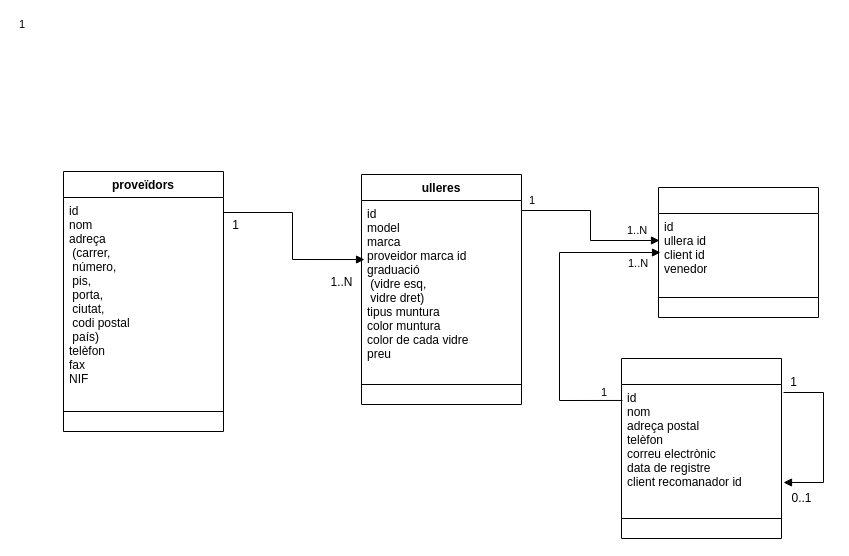
Image size: 849x556. Some labels were removed from this diagram. The shapes that lost their labels are listed below. From the top down, each one's box as (x1, y1, x2, y2) in pixels, then its label:
(658, 186, 818, 318): vendes
(620, 358, 782, 538): clients
